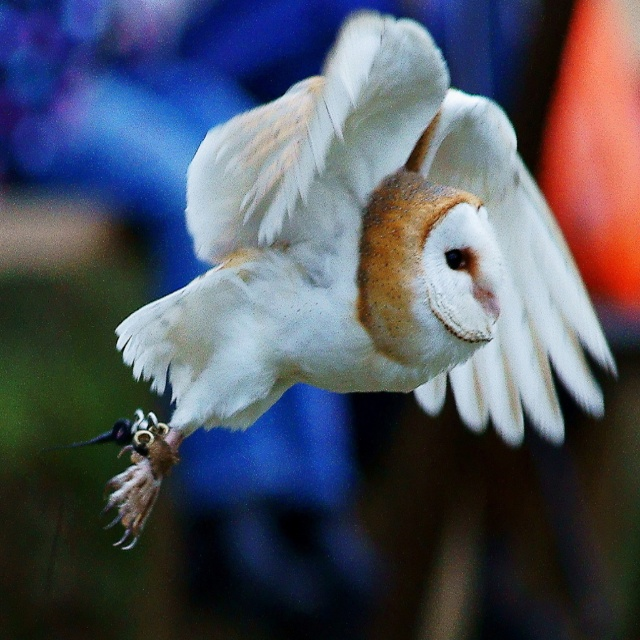Owl: (99, 5, 622, 549)
